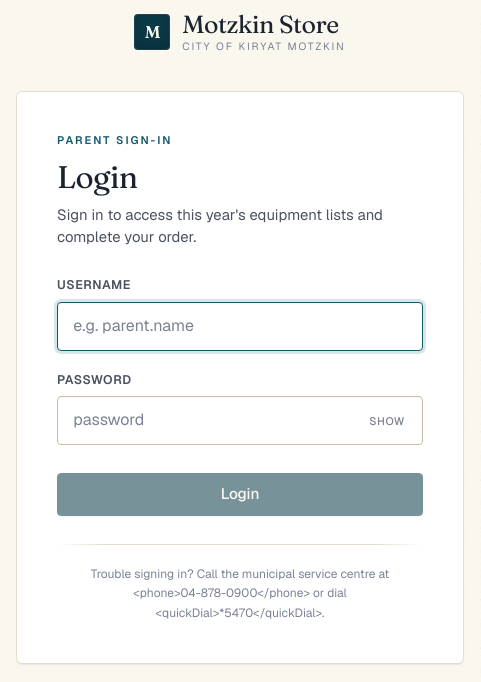
Scenario: LoginForm › Form Validation › should enable submit button when both fields are filled
Type "testuser" into the field labelled "Username". click: (240, 326)
box: left=57, top=302, right=423, bottom=351
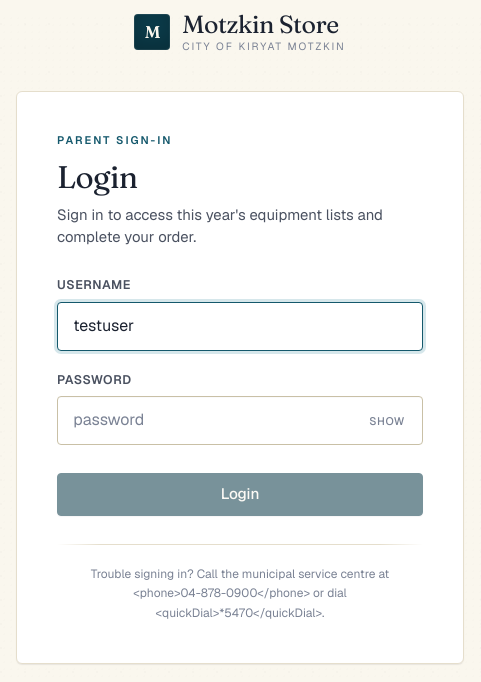
Type "password123" into the password field labelled "Password". click: (240, 421)
box: left=57, top=396, right=423, bottom=445
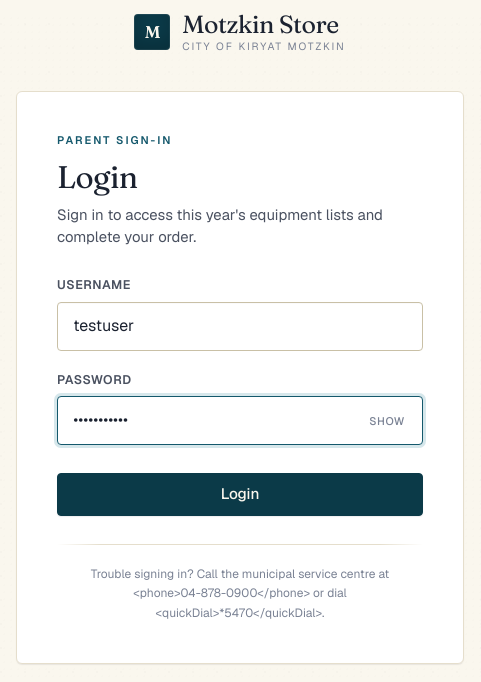
Check: the button "Login" is enabled, box left=57, top=473, right=423, bottom=516
